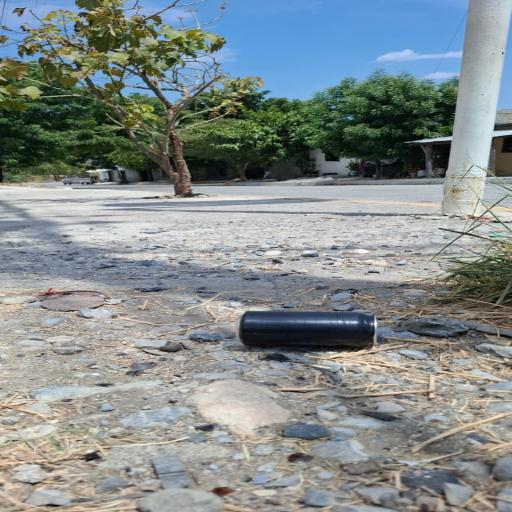LATA: (232, 308, 406, 353)
